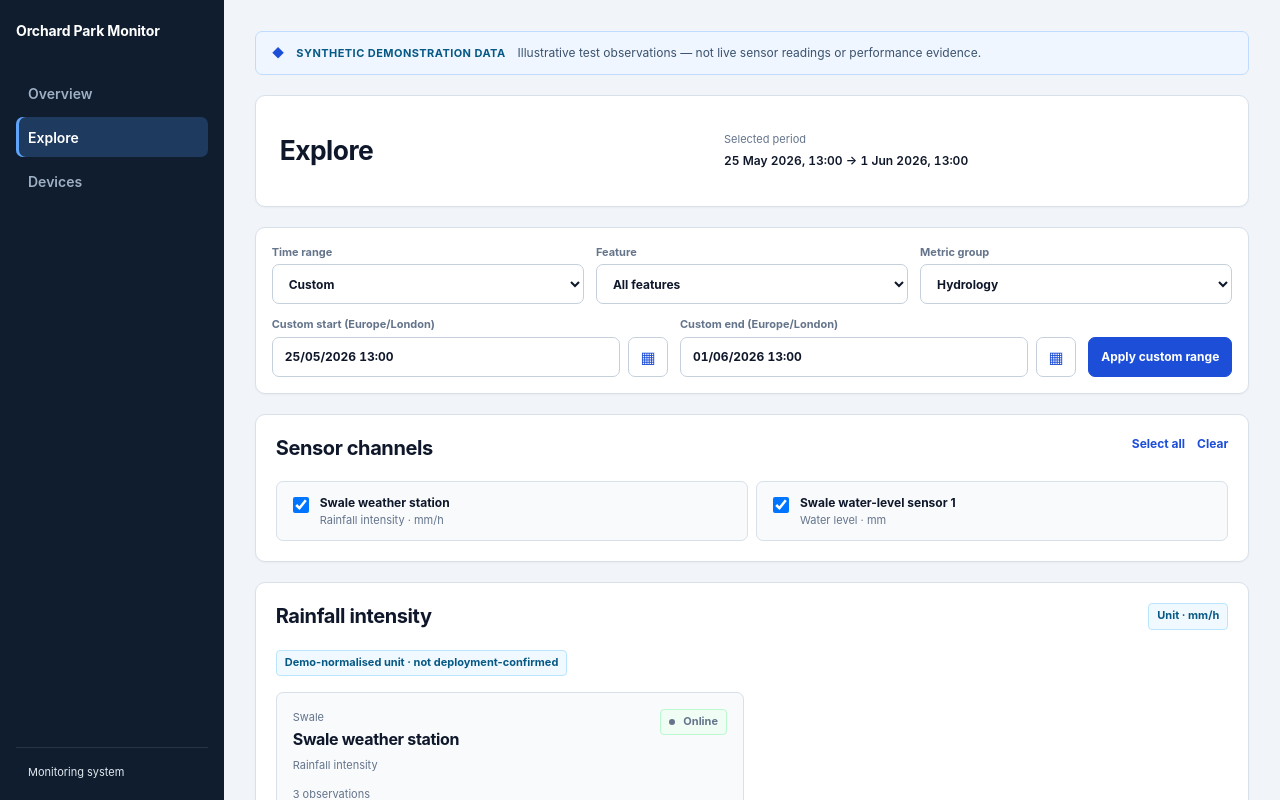
Test case: monitoring dashboard › validates custom order and daylight-saving gaps before querying
Check: the heading "Explore" is shown, box 280,135 -> 373,166
Replace the text in the field labelled "Custom start (Europe/London)" with "01/06/2026 13:00" at [446, 357], box 272,337 -> 620,377
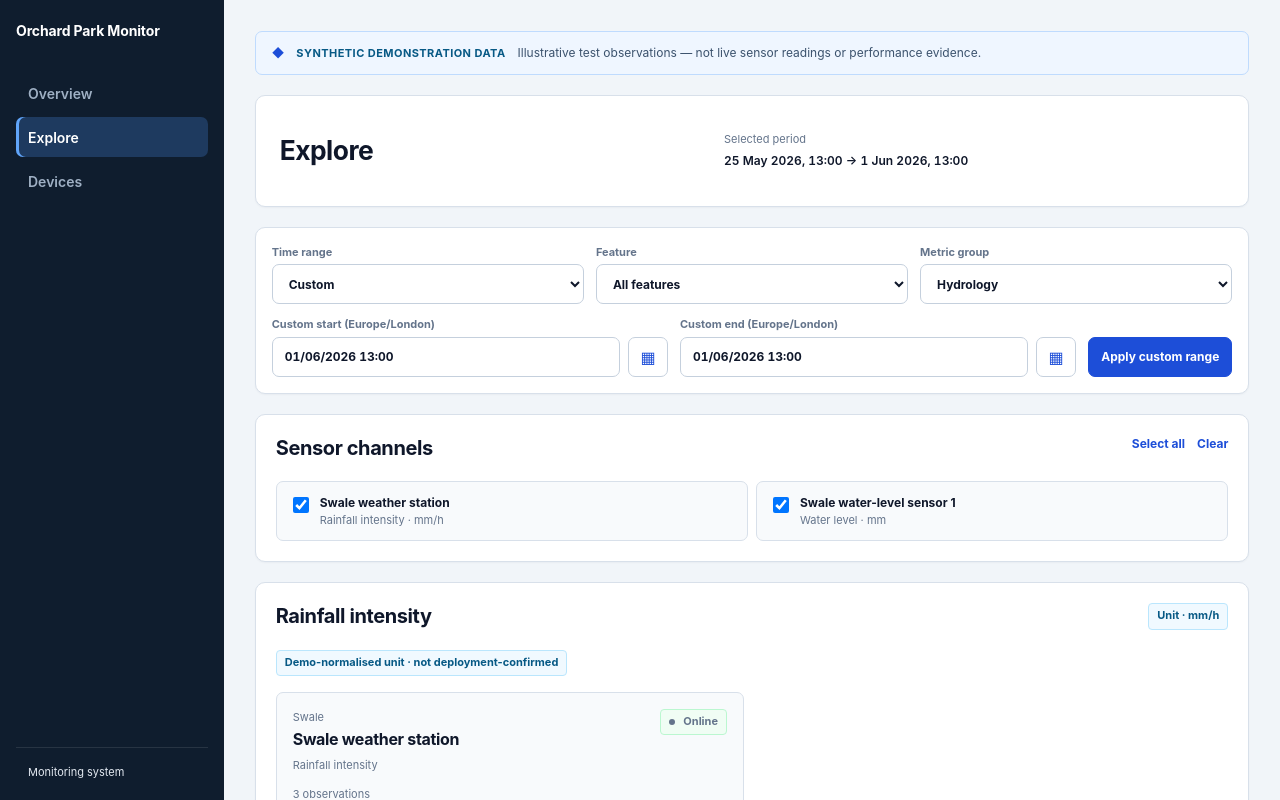
Replace the text in the field labelled "Custom end (Europe/London)" with "01/06/2026 12:00" at [854, 357], box 680,337 -> 1028,377
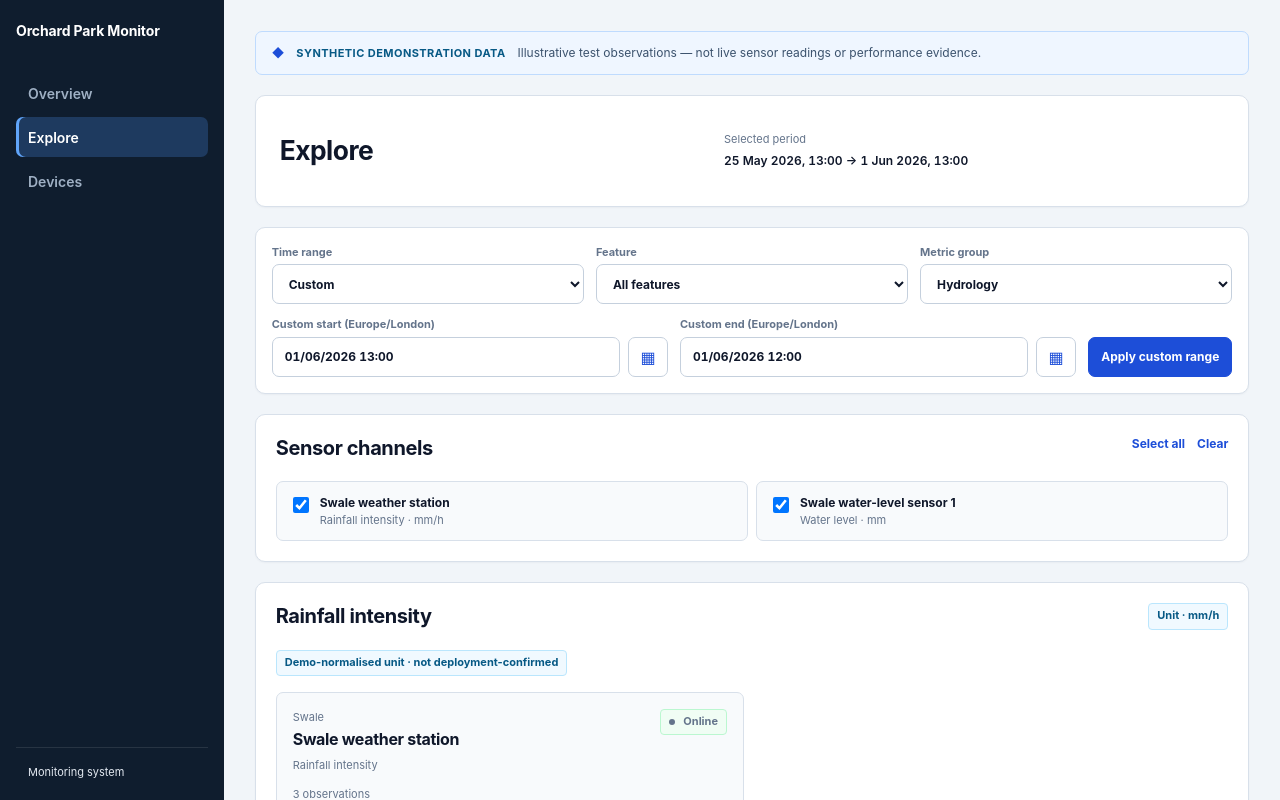
Click the button "Apply custom range" at [1160, 357], box 1088,337 -> 1232,377
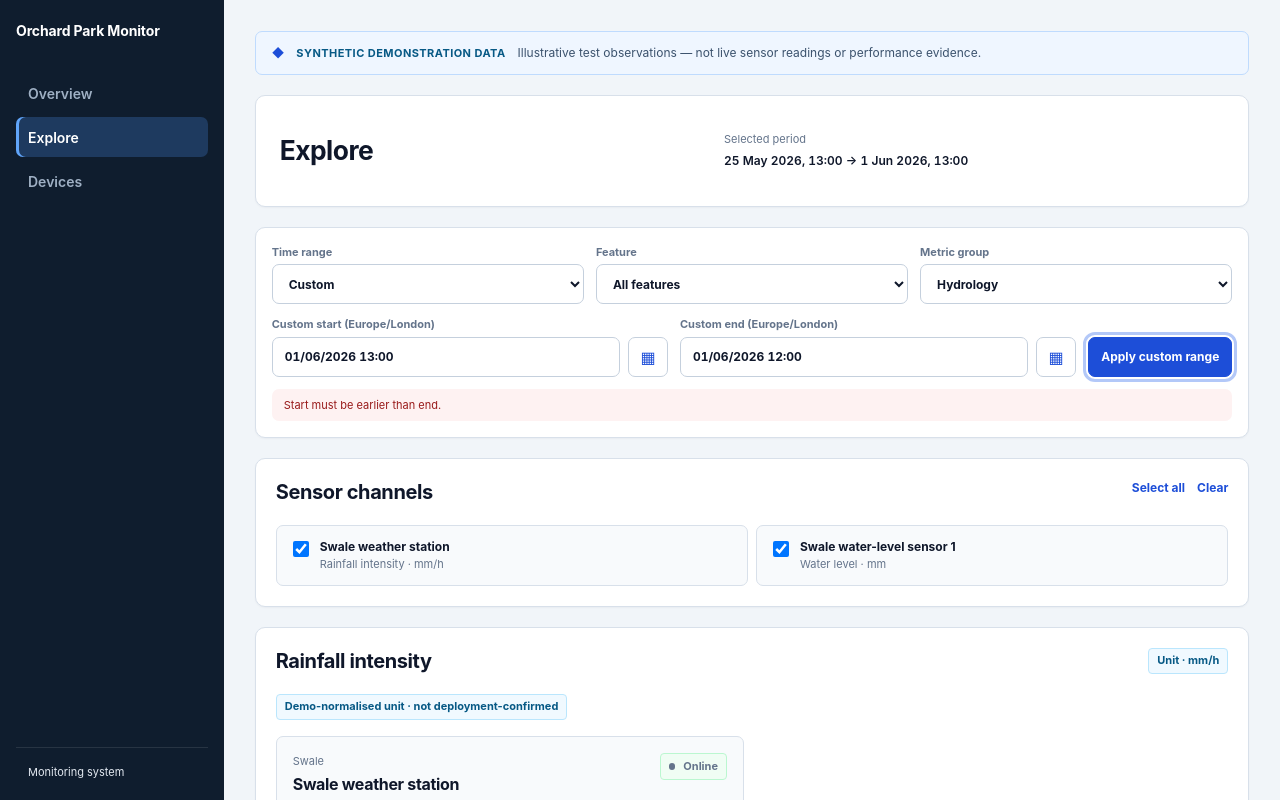
Check: the message reads "Start must be earlier than end.", box 284,398 -> 441,412
Replace the text in the field labelled "Custom start (Europe/London)" with "29/03/2026 01:30" at [446, 357], box 272,337 -> 620,377
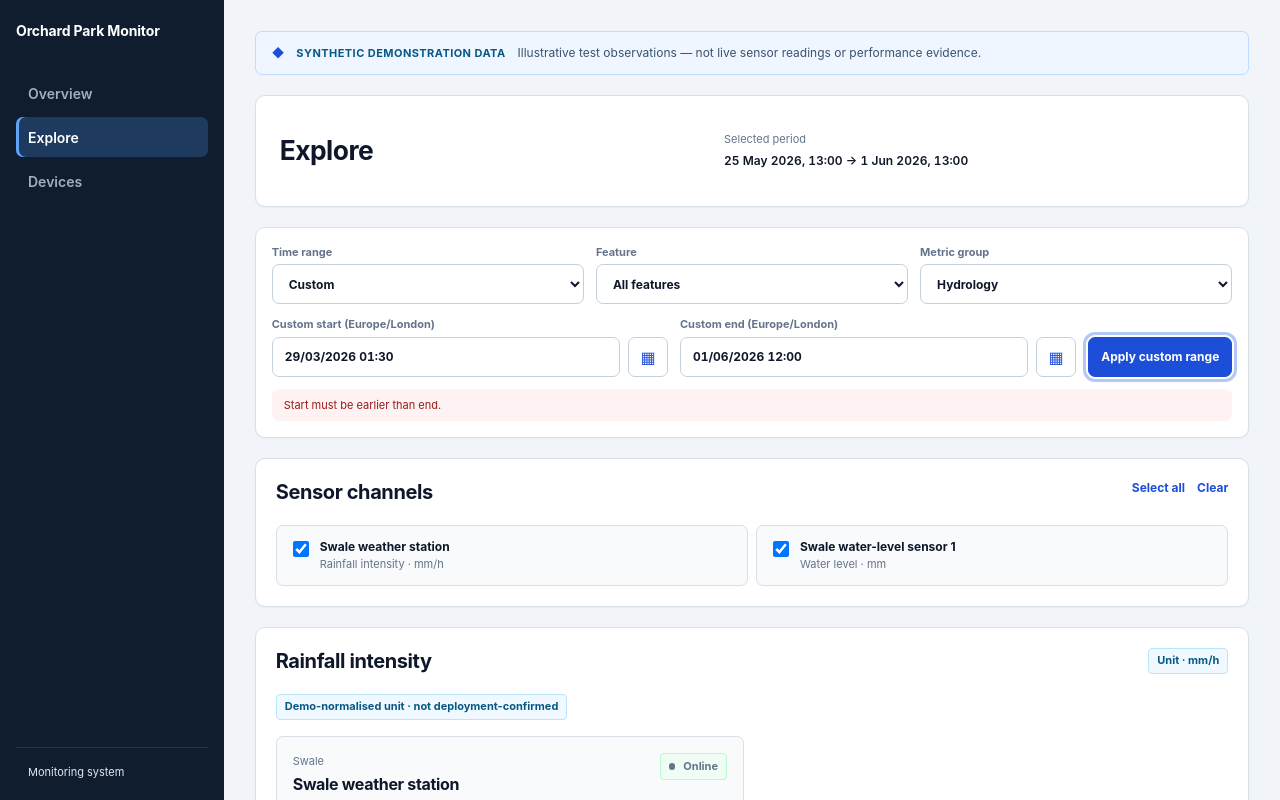
Replace the text in the field labelled "Custom end (Europe/London)" with "29/03/2026 03:00" at [854, 357], box 680,337 -> 1028,377
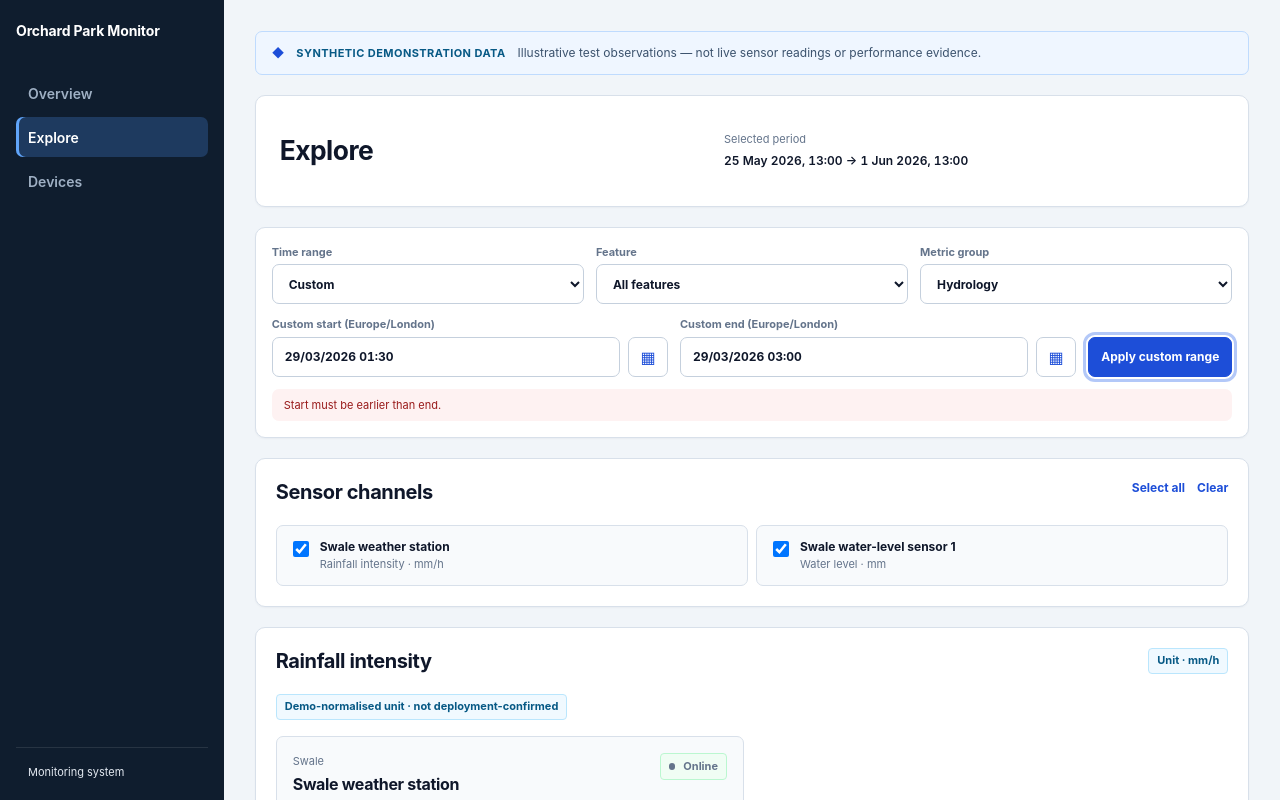
Click the button "Apply custom range" at [1160, 357], box 1088,337 -> 1232,377
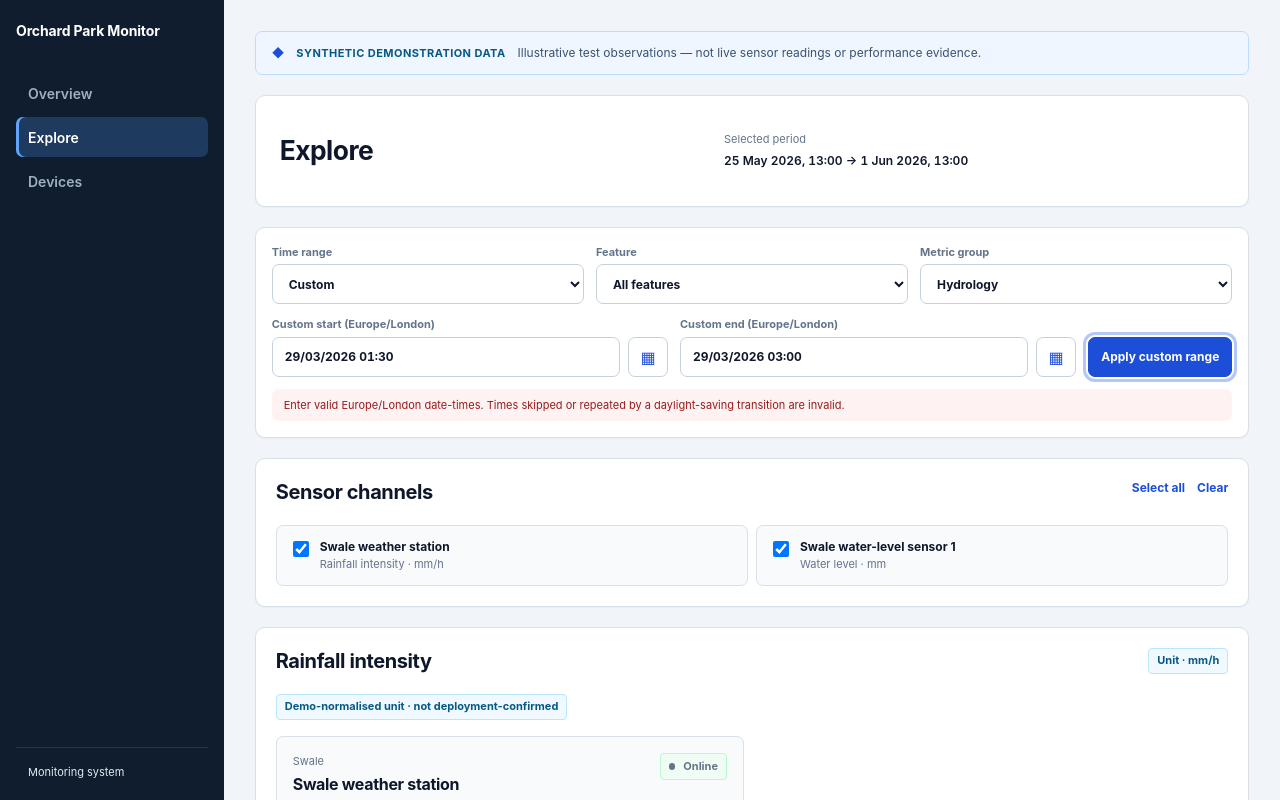
Check: the message shows "daylight-saving transition", box 284,398 -> 845,412
